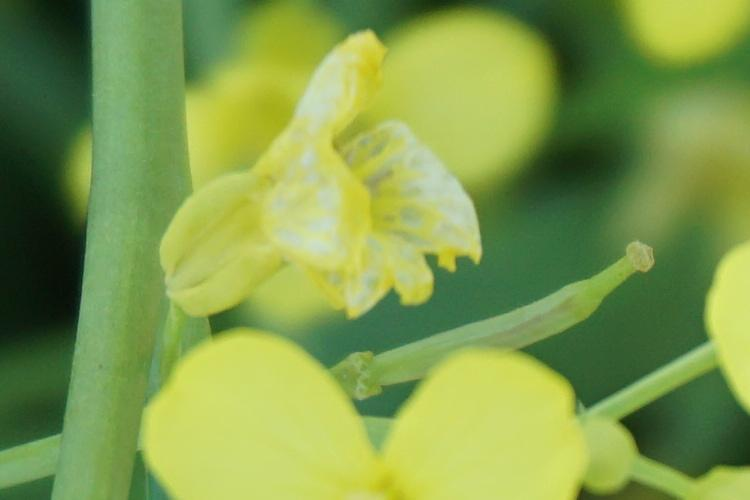pod: (334, 230, 674, 399)
yellow: (151, 41, 488, 324), (144, 330, 593, 500)
